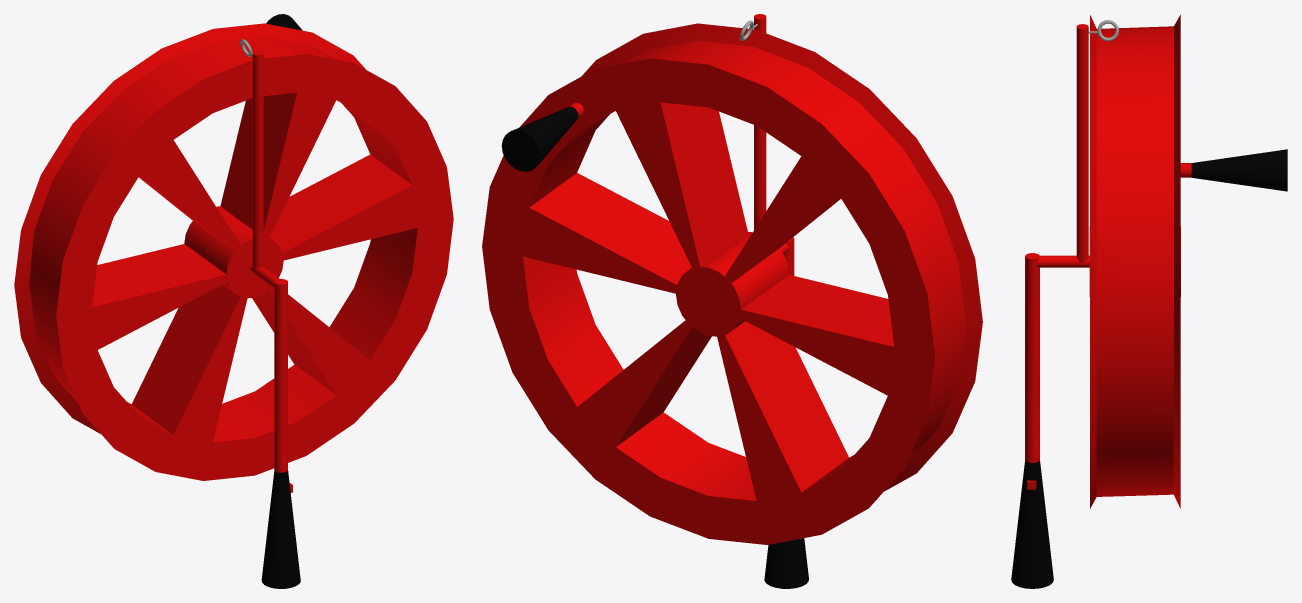
The model's file is handle.fbx.
The picture shows the model from 3 angles, left to right: view 1: azimuth 30°, elevation 25°; view 2: azimuth 150°, elevation 25°; view 3: azimuth 270°, elevation 25°; orthographic projection. The views are drawn at different scales.
Visible parts, largest first — view 1: polySurface3, polySurface5, polySurface6, polySurface4; view 2: polySurface3, polySurface6, polySurface2, polySurface5, polySurface4; view 3: polySurface3, polySurface5, polySurface4, polySurface2, polySurface1.
Boxes of the visible parts, box(x1,y1,x2,y2) form: polySurface3: box(14, 23, 453, 480); polySurface5: box(261, 279, 300, 588); polySurface6: box(184, 206, 283, 298); polySurface4: box(252, 50, 263, 270); polySurface3: box(482, 23, 982, 544); polySurface6: box(676, 232, 788, 336); polySurface2: box(501, 102, 584, 171); polySurface5: box(764, 237, 808, 588); polySurface4: box(754, 14, 766, 229); polySurface3: box(1090, 14, 1180, 508); polySurface5: box(1011, 253, 1053, 588); polySurface4: box(1076, 24, 1088, 263); polySurface2: box(1180, 149, 1287, 191); polySurface1: box(1036, 255, 1089, 267).
Size of the model in its own units: 55.18 by 68.4 by 30.68.
